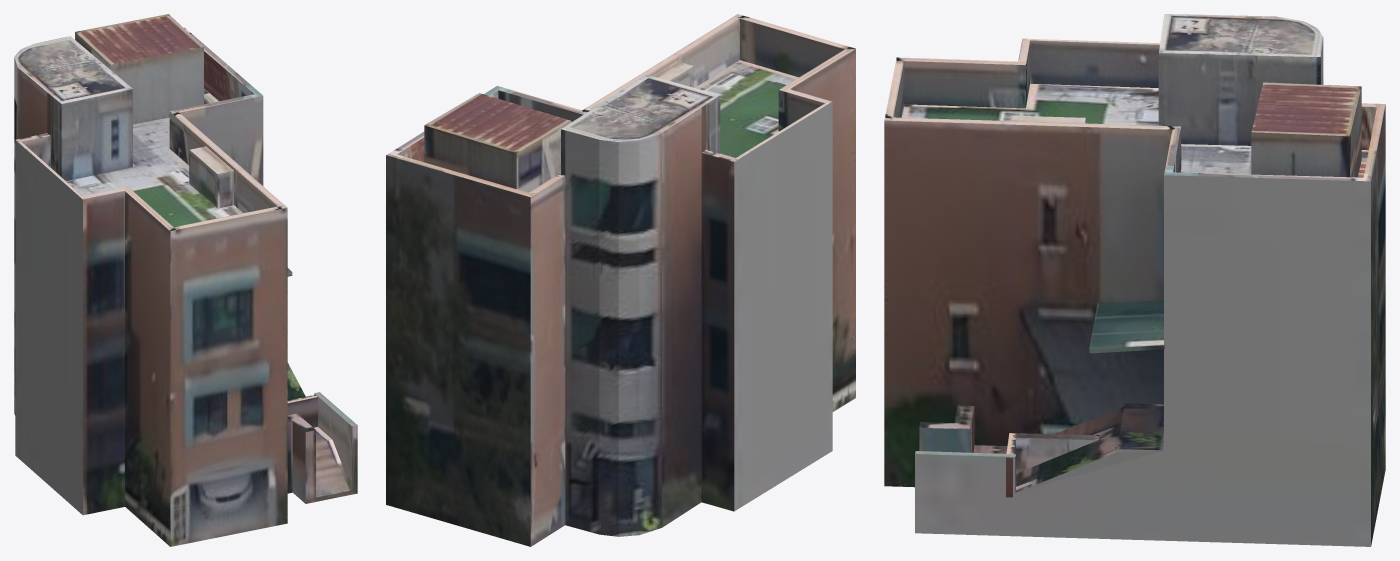
3 renders of one model, left to right at view 1: azimuth 30°, elevation 25°; view 2: azimuth 150°, elevation 25°; view 3: azimuth 270°, elevation 25°, orthographic. The views are drawn at different scales.
Parts seen in each view (by area): view 1: B280924041101063A0; view 2: B280924041101063A0; view 3: B280924041101063A0.
Boxes of the visible parts, left/top/right/bottom form: B280924041101063A0: left=14, top=14, right=357, bottom=546; B280924041101063A0: left=386, top=14, right=855, bottom=546; B280924041101063A0: left=884, top=14, right=1385, bottom=546.
Bounding box in the file's own units: 8.83 × 11.91 × 13.11.
1 material, 1 textured.
